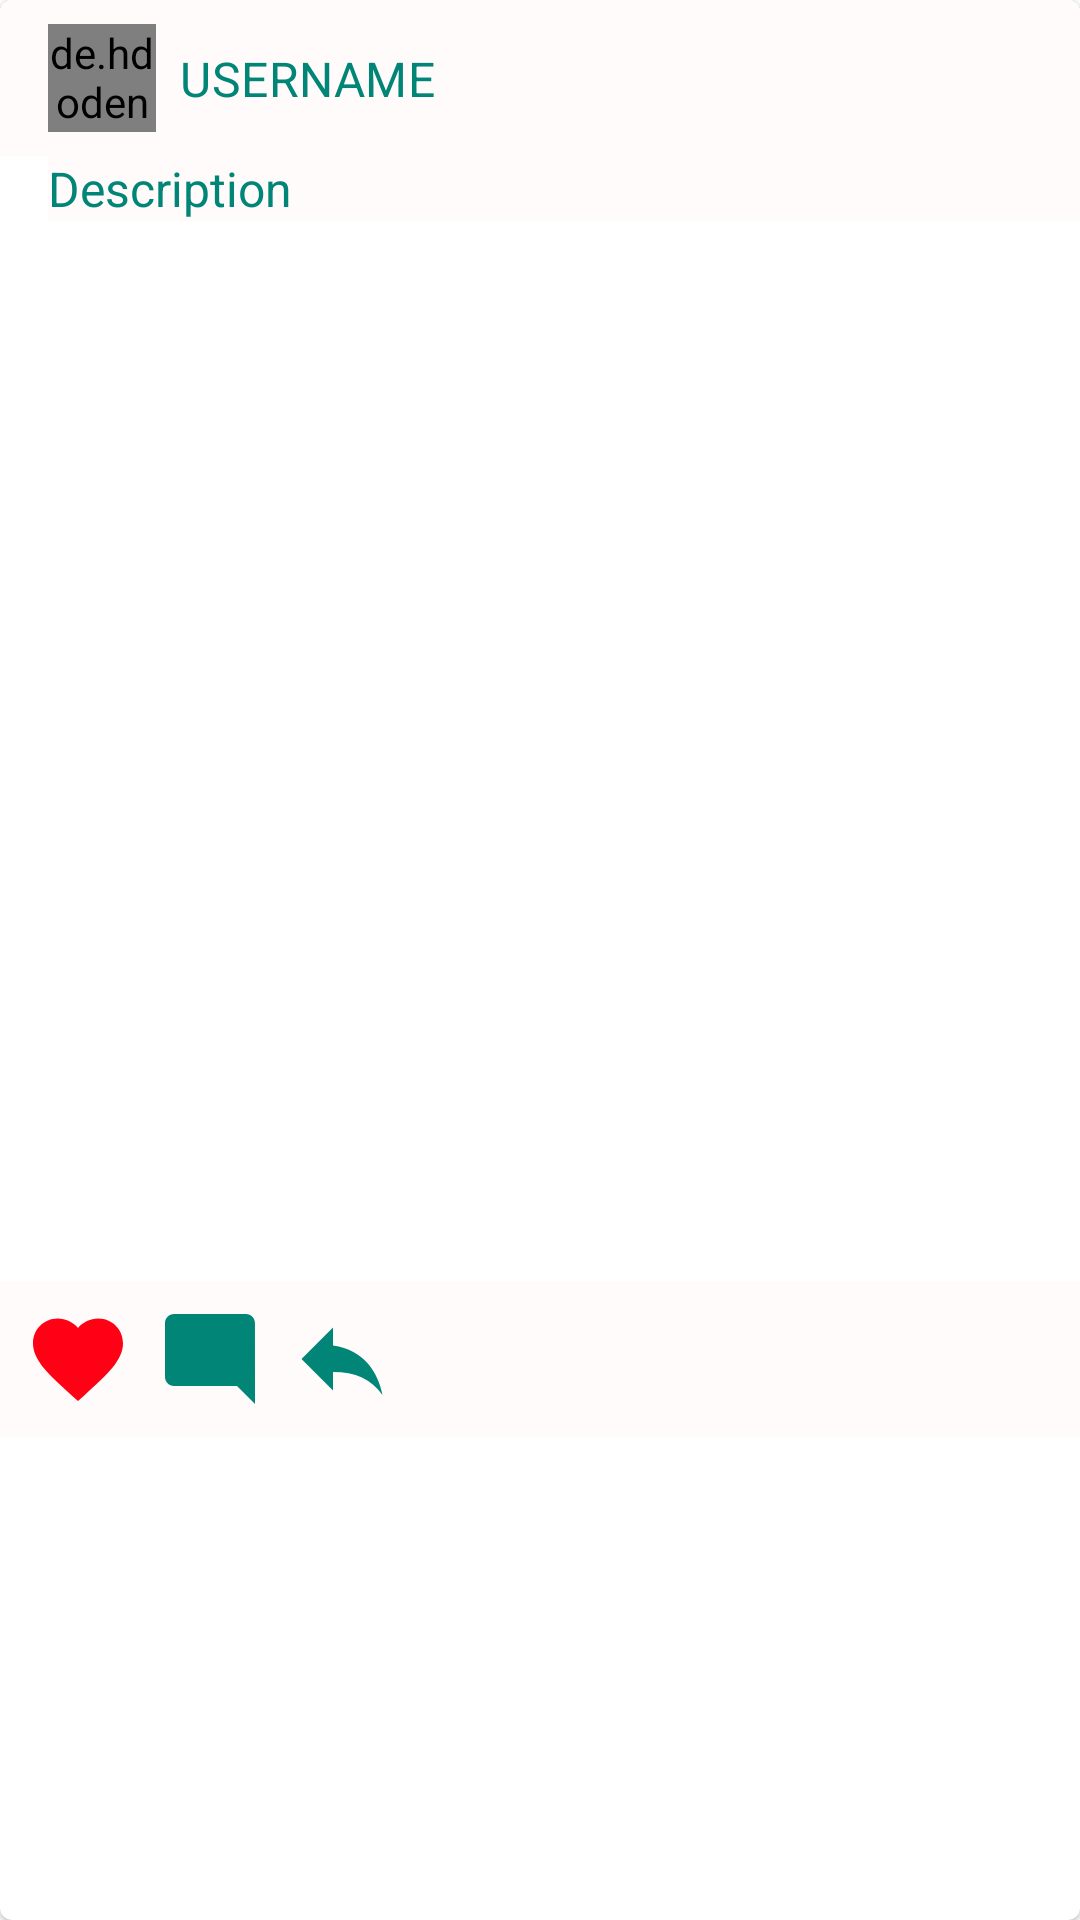

Point at icon controls on the screen. Image size 1080 x 1920, points as point (x, y).
favorite: point (78, 1359)
mode comment: point (210, 1359)
reply: point (342, 1361)
